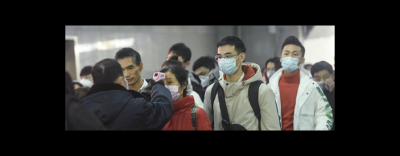with_mask: (216, 51, 241, 74), (161, 75, 182, 102), (281, 48, 303, 71), (313, 72, 333, 92), (193, 70, 214, 88), (115, 71, 129, 92), (79, 74, 94, 88), (266, 64, 277, 80)
without_mask: (121, 63, 140, 85)
